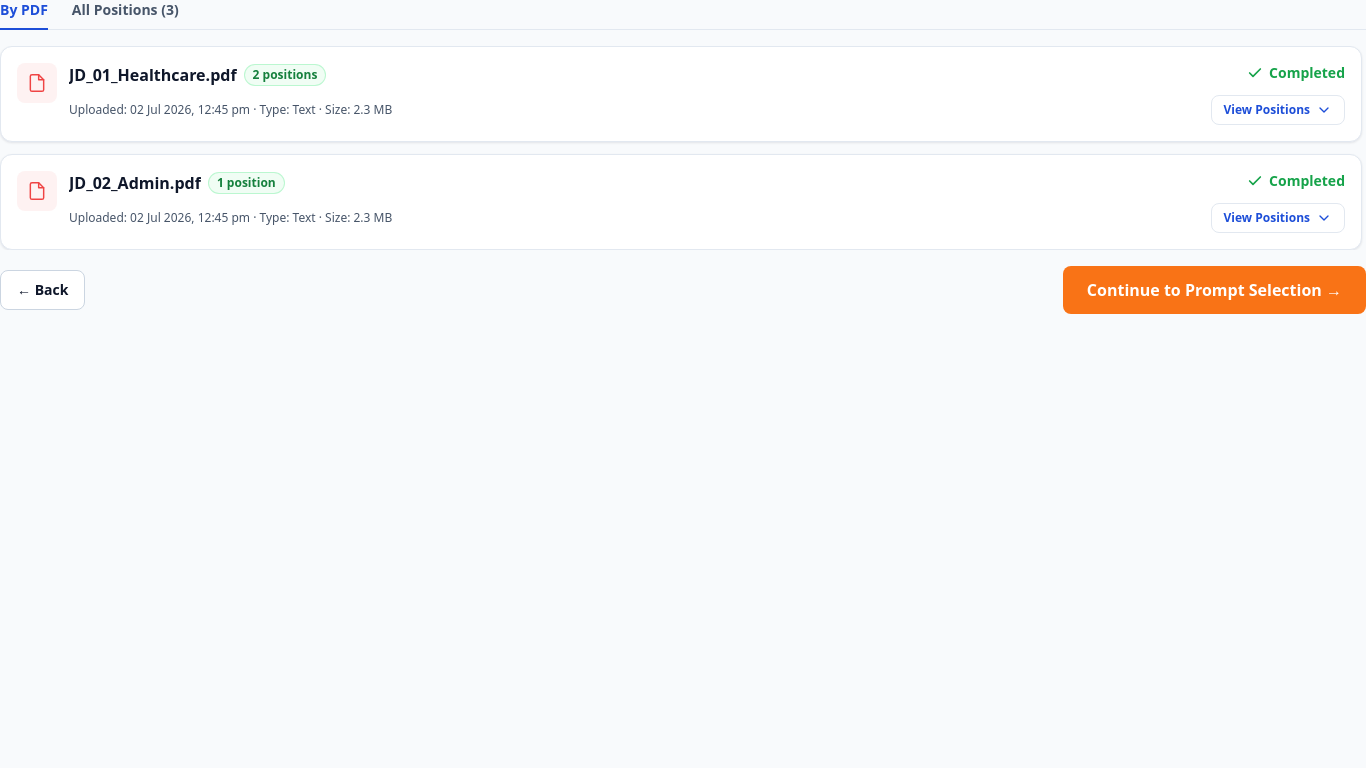
Test: ExtractionResults — By PDF grouping › opens a detail modal with extracted fields when a position is clicked
This screenshot has width=1366, height=768.
# Expand the first PDF, then click a position
Click the 1st button "View Positions" at point(1278, 110), box [1211,95,1345,125]
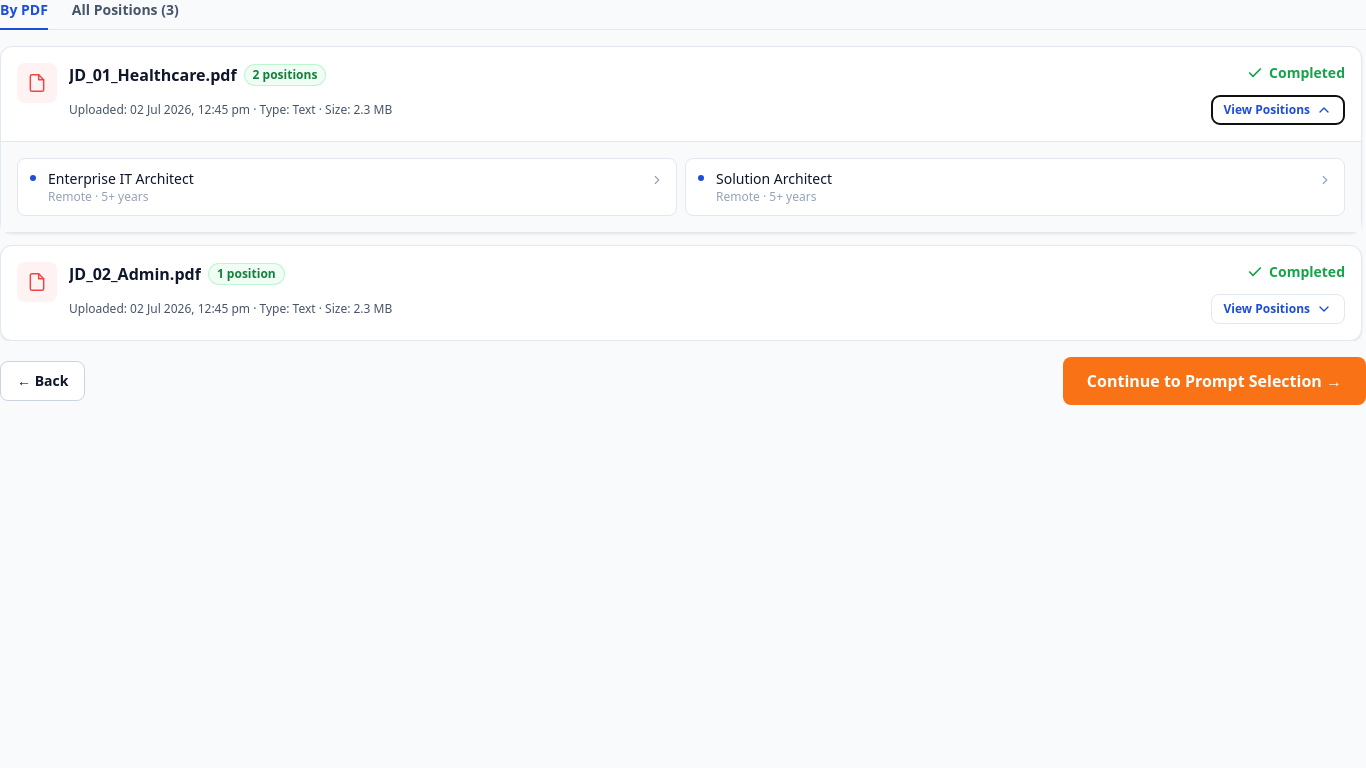
Click the text "Enterprise IT Architect" at point(121, 178), box [48,169,194,188]
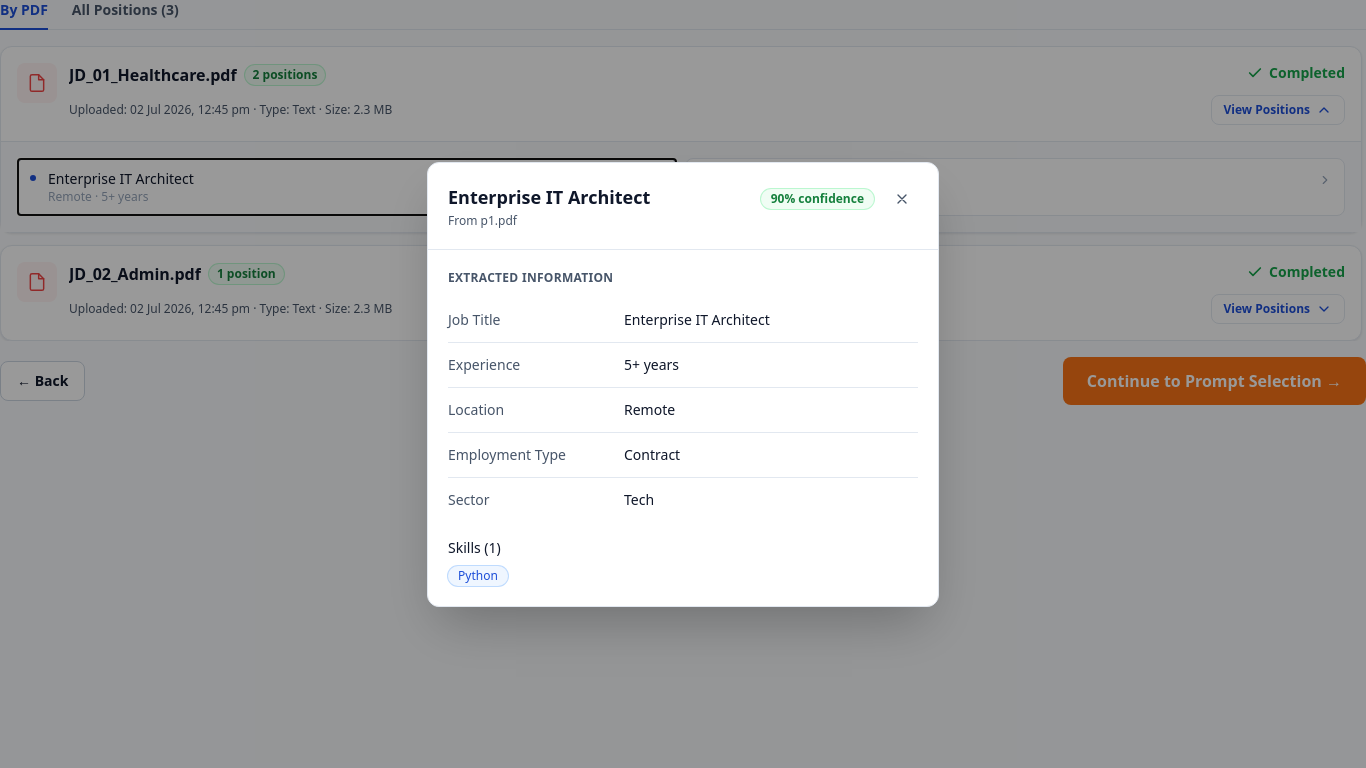
Now the dialog is shown
Now the heading "Extracted Information" is shown, box [448,268,613,286]
Now the text "Python" is shown, box [448,566,508,586]
# Close it
Click the button named "Close" at point(902, 198), box [886,182,918,214]
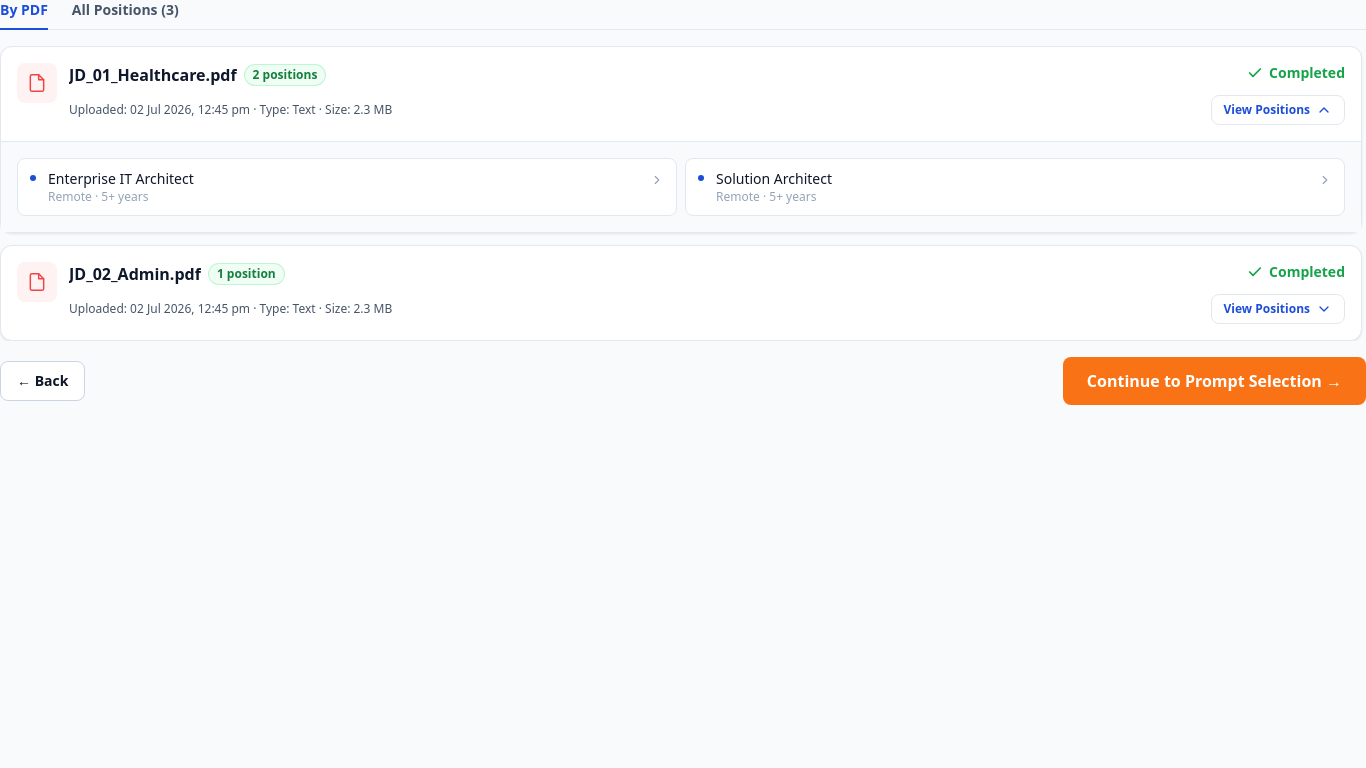
Now the dialog is gone
